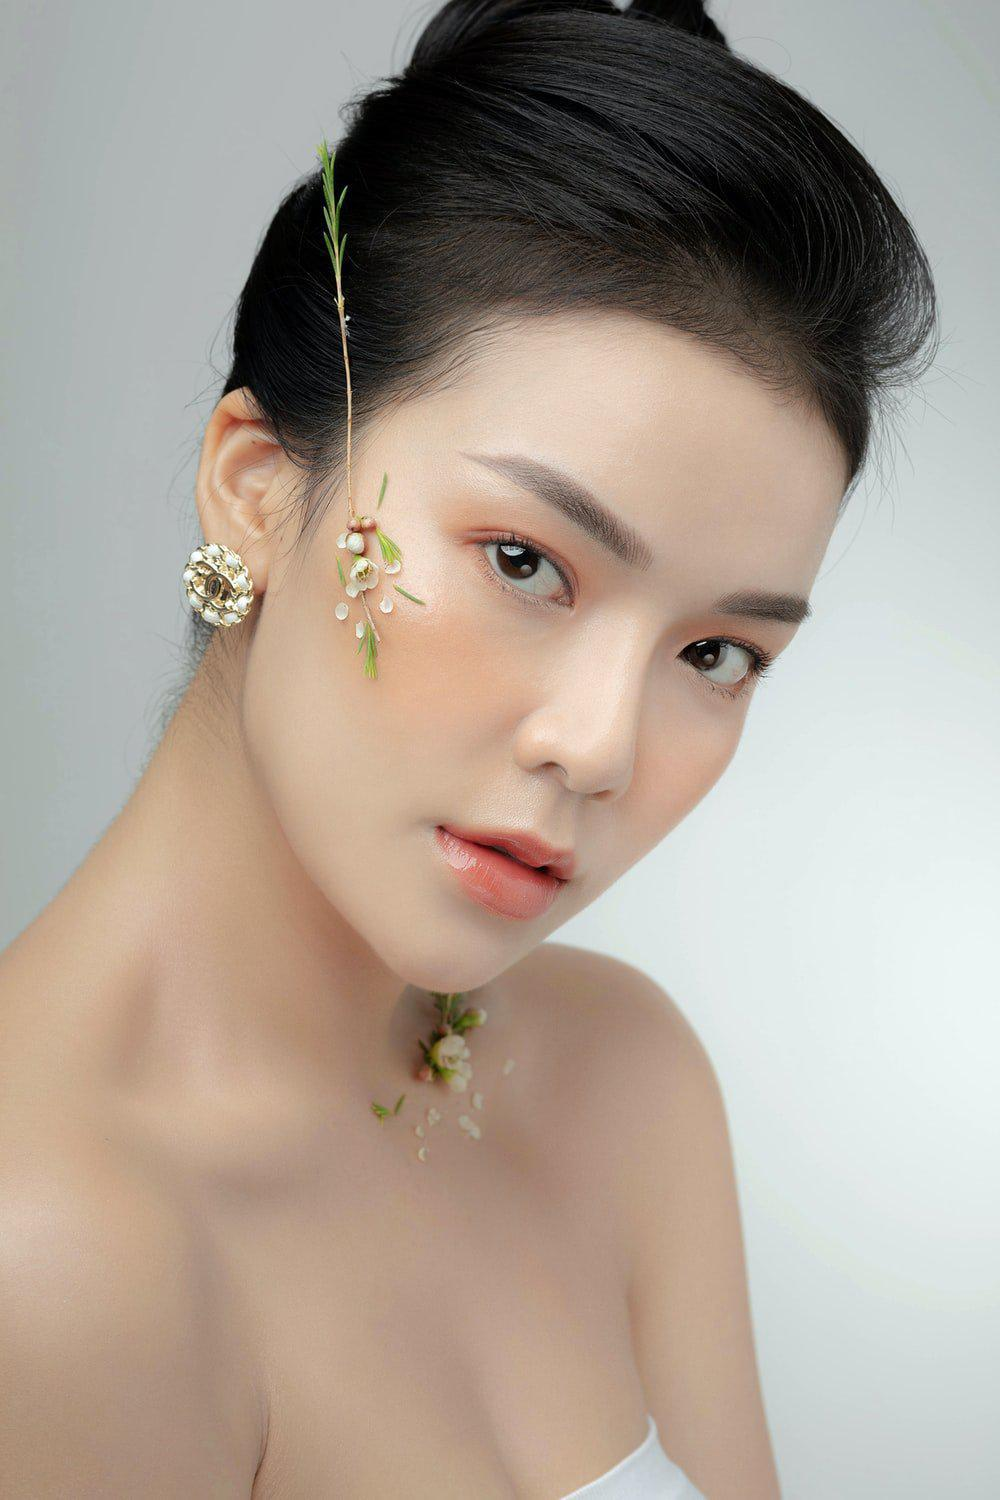Sober: (321, 314, 744, 980)
